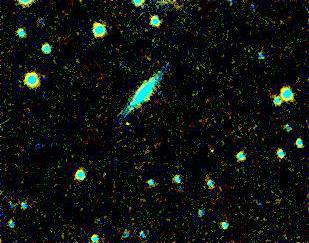star: (112, 108, 142, 138)
